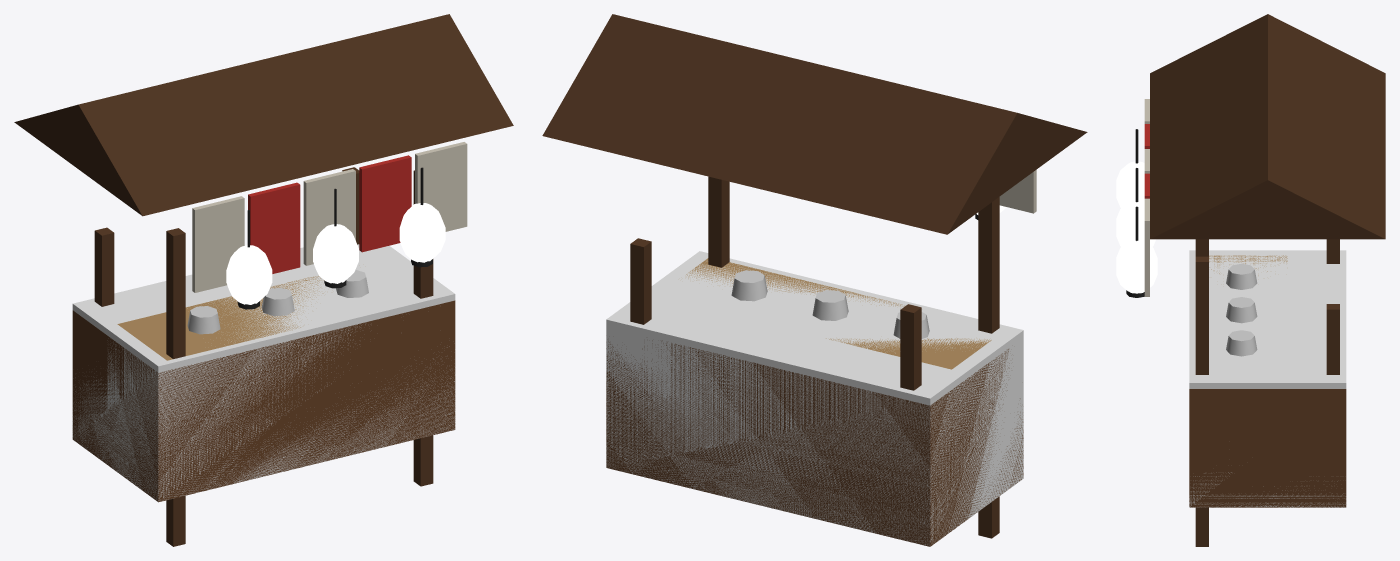
The model's file is puesto_comida.glb.
3 views of the same model, side by side, from view 1: azimuth 30°, elevation 25°; view 2: azimuth 150°, elevation 25°; view 3: azimuth 270°, elevation 25° (orthographic). The views are drawn at different scales.
Visible parts, largest first — view 1: puesto_comida_Malla, COL_0; view 2: puesto_comida_Malla, COL_0; view 3: puesto_comida_Malla, COL_0.
Part boxes in pixels (x1,y1,x2,y2): puesto_comida_Malla: [14, 14, 513, 546]; COL_0: [72, 244, 455, 501]; puesto_comida_Malla: [542, 14, 1087, 546]; COL_0: [606, 251, 1023, 546]; puesto_comida_Malla: [1116, 14, 1385, 546]; COL_0: [1189, 250, 1346, 507].
Bounding box in the file's own units: 3 × 3.3 × 2.06.
